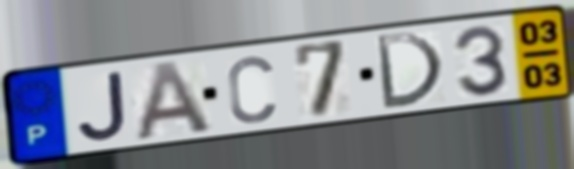3: (450, 22, 513, 98)
7: (290, 39, 351, 122)
A: (131, 57, 216, 144)
C: (224, 53, 279, 127)
D: (372, 30, 447, 112)
J: (75, 68, 131, 144)
